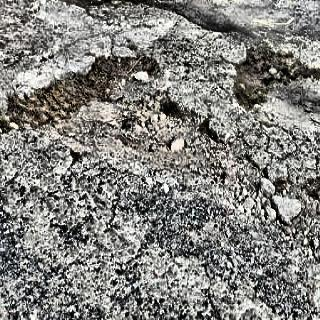pothole: (119, 100, 265, 210), (6, 48, 161, 137), (230, 36, 320, 109)
